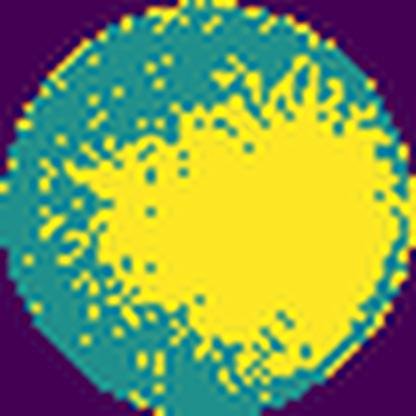Loc: (65, 57, 401, 388)
